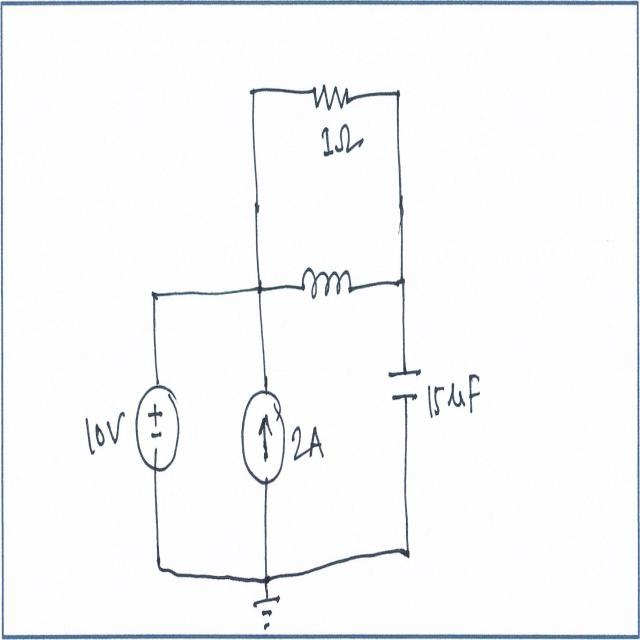capacitor: (381, 365, 423, 407)
current_source: (240, 387, 287, 488)
ground: (252, 588, 282, 632)
inductor: (300, 262, 359, 318)
resistor: (311, 72, 350, 123)
voltage_source: (134, 382, 184, 475)
